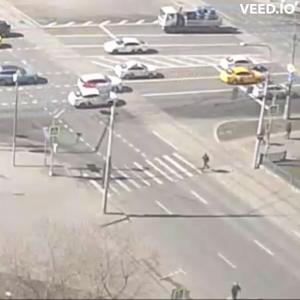car: (160, 5, 226, 34), (72, 93, 129, 112), (2, 65, 49, 88), (77, 74, 115, 98), (105, 38, 154, 56), (123, 63, 165, 82), (221, 56, 259, 69), (224, 70, 259, 84)
